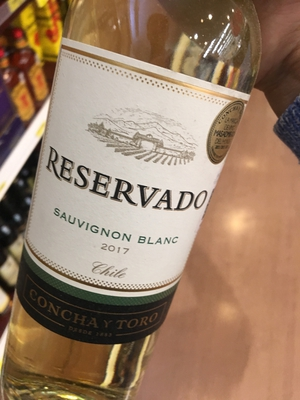reservado sauvignon blanc: (14, 20, 248, 373)
